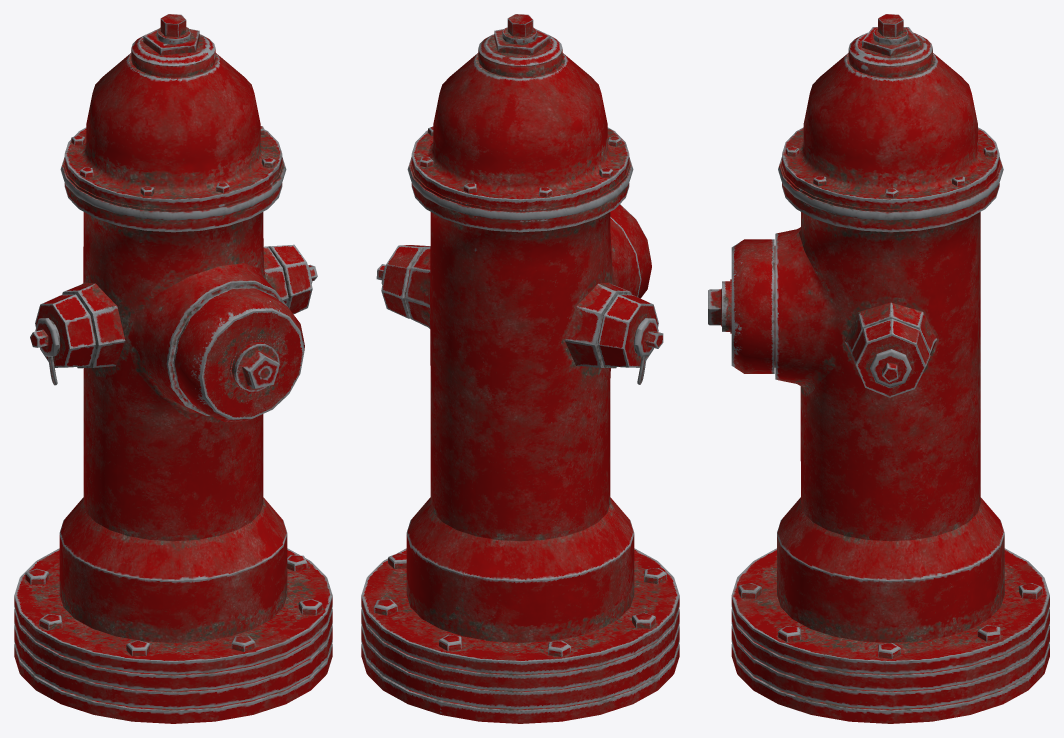
The model's file is fireHydrant.fbx.
The picture shows the model from 3 angles, left to right: view 1: azimuth 30°, elevation 25°; view 2: azimuth 150°, elevation 25°; view 3: azimuth 270°, elevation 25°; orthographic projection.
Visible parts, largest first — view 1: fireHydrant; view 2: fireHydrant; view 3: fireHydrant.
Part boxes in pixels (x1,y1,x2,y2): fireHydrant: (14, 14, 332, 723); fireHydrant: (361, 14, 679, 723); fireHydrant: (708, 14, 1049, 723).
Size of the model in its own units: 36.9 by 80.51 by 39.1.
1 material, 1 textured.
